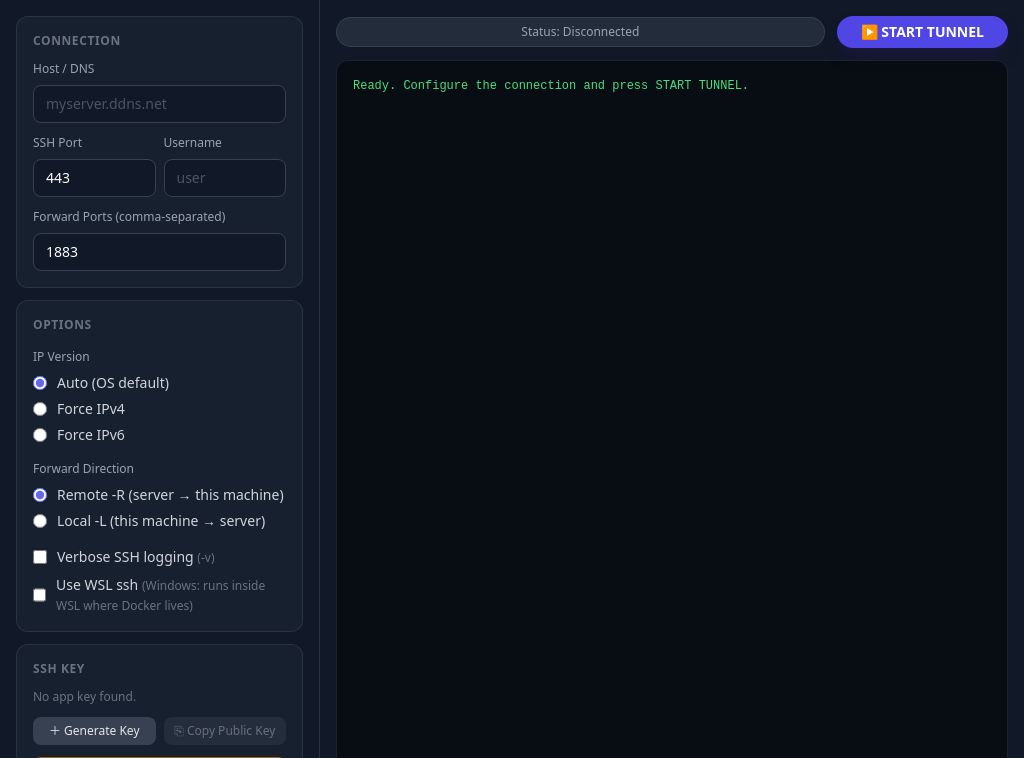
Test: SshTab generateKey › logs error when GenerateAppKey returns a non-empty string
This screenshot has width=1024, height=758.
Click the button "＋ Generate Key" at coordinates (94, 731), box [33,717,156,745]
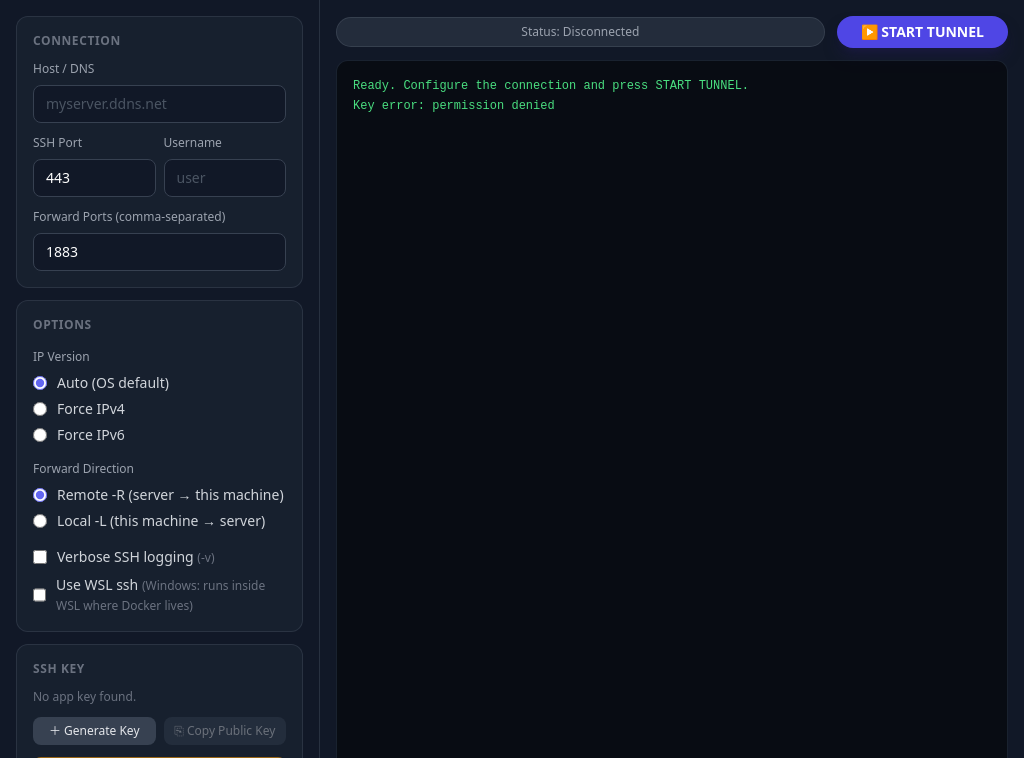
Expected: the text "Key error: permission denied" is shown, [353,79,749,112]
